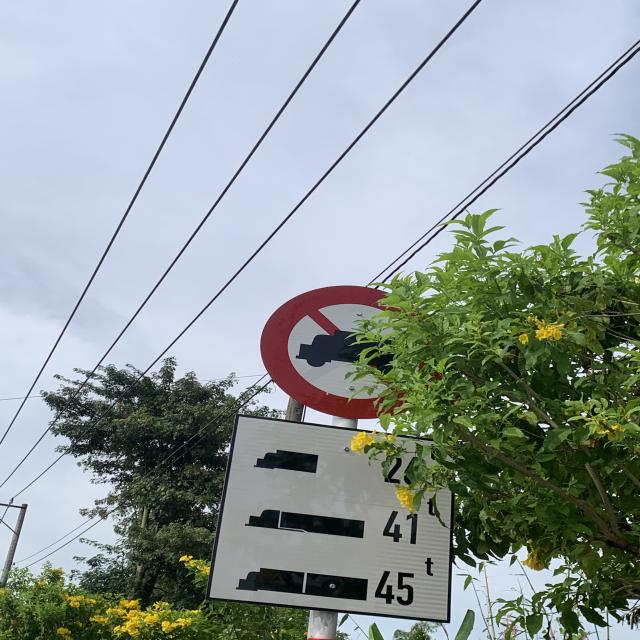Cam_Xe_Tai: (256, 282, 446, 420)
